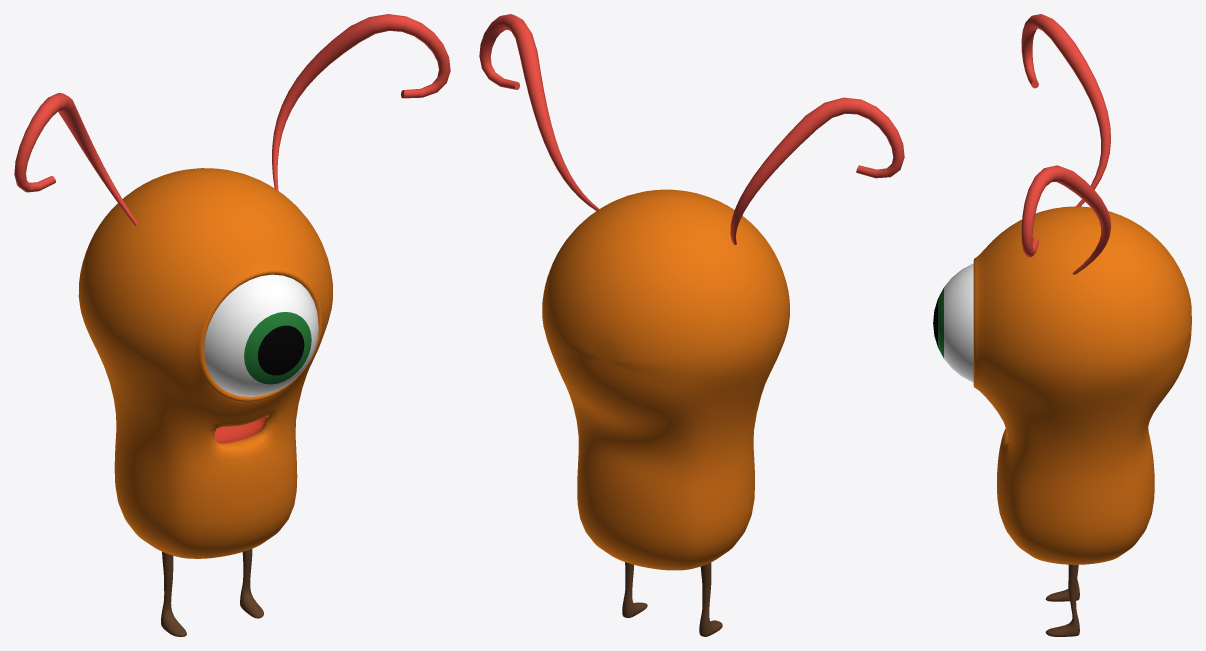
Rendered from monster3.fbx.
The picture shows the model from 3 angles, left to right: view 1: azimuth 30°, elevation 25°; view 2: azimuth 150°, elevation 25°; view 3: azimuth 270°, elevation 25°; orthographic projection. The views are drawn at different scales.
Visible parts, largest first — view 1: Sphere, Sphere.001, BezierCurve, Cube; view 2: Sphere, BezierCurve, Cube; view 3: Sphere, BezierCurve, Sphere.001, Cube.
Part boxes in pixels (x1,y1,x2,y2): Sphere: [78, 168, 332, 558]; Sphere.001: [204, 274, 318, 396]; BezierCurve: [14, 14, 450, 225]; Cube: [161, 549, 263, 636]; Sphere: [542, 189, 789, 570]; BezierCurve: [479, 14, 904, 244]; Cube: [622, 562, 722, 636]; Sphere: [973, 206, 1191, 564]; BezierCurve: [1021, 14, 1110, 274]; Sphere.001: [933, 263, 973, 382]; Cube: [1045, 564, 1079, 636].
Bounding box in the file's own units: 389 × 489 × 219.
